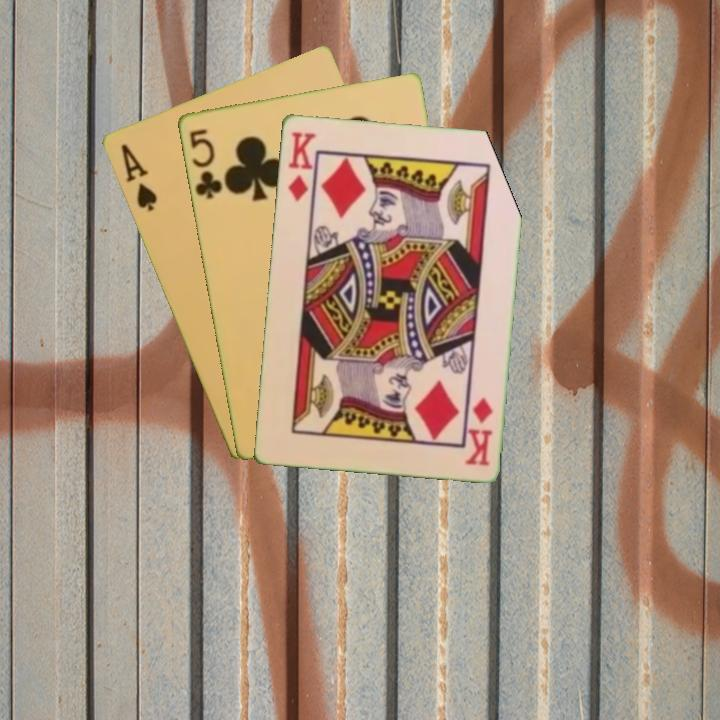5c: (185, 125, 225, 202)
As: (117, 140, 160, 215)
Kd: (284, 128, 319, 203), (462, 393, 495, 468)
